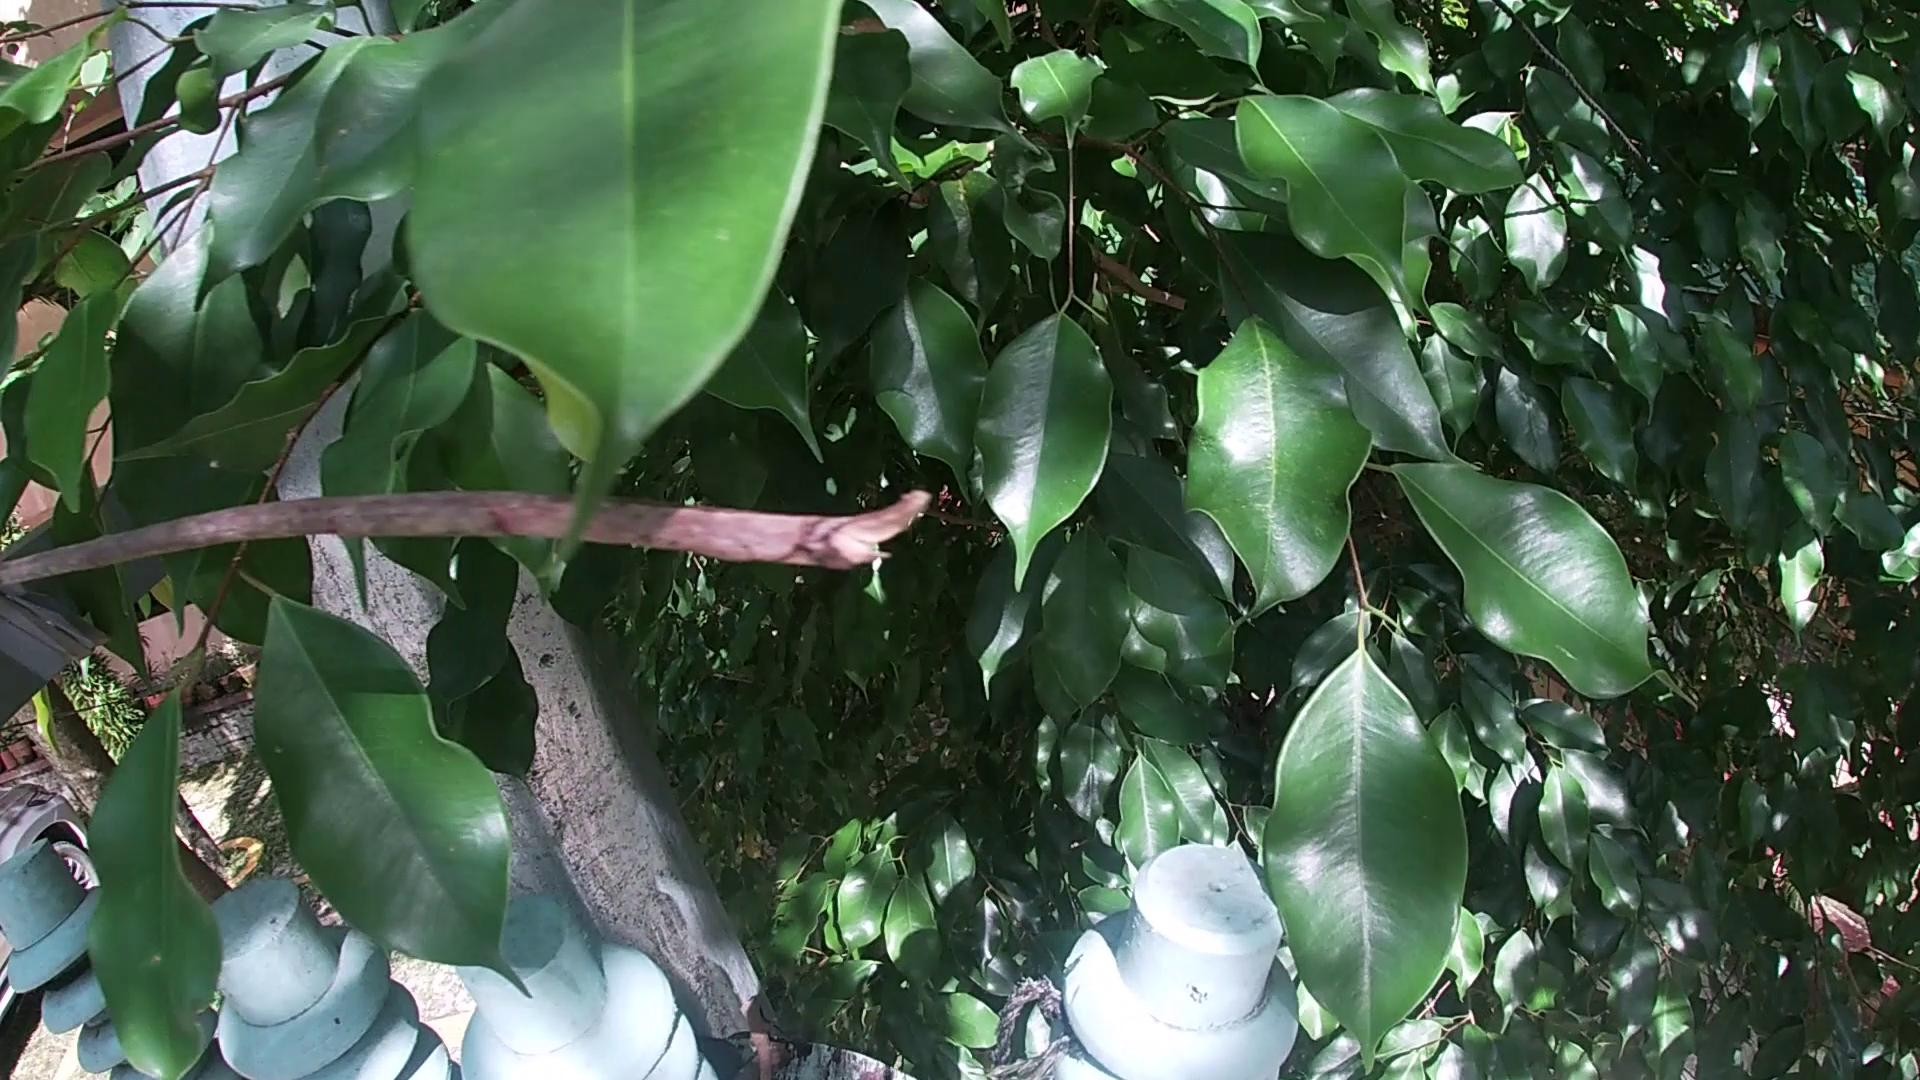tree branch: (1, 427, 971, 783), (721, 1038, 791, 1080), (750, 1021, 791, 1080)
